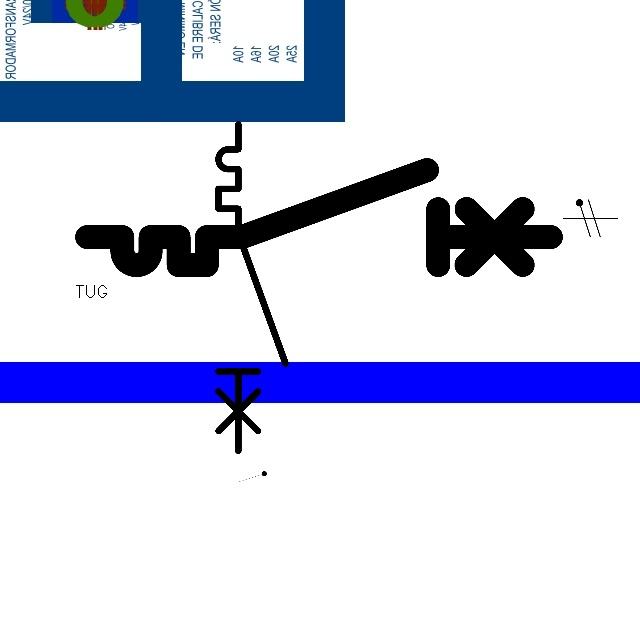interruptor_termomagnetico: (75, 158, 563, 277), (210, 116, 294, 459)
